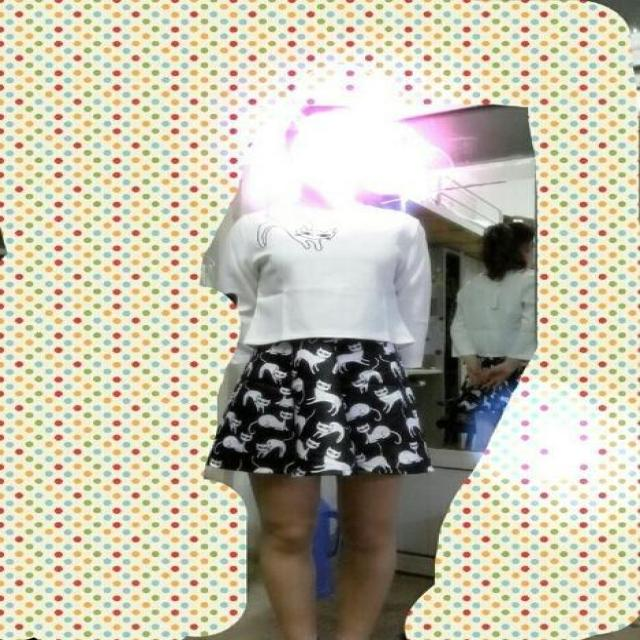long sleeve top: (219, 204, 429, 370), (453, 274, 535, 362)
skirt: (211, 339, 432, 475)
